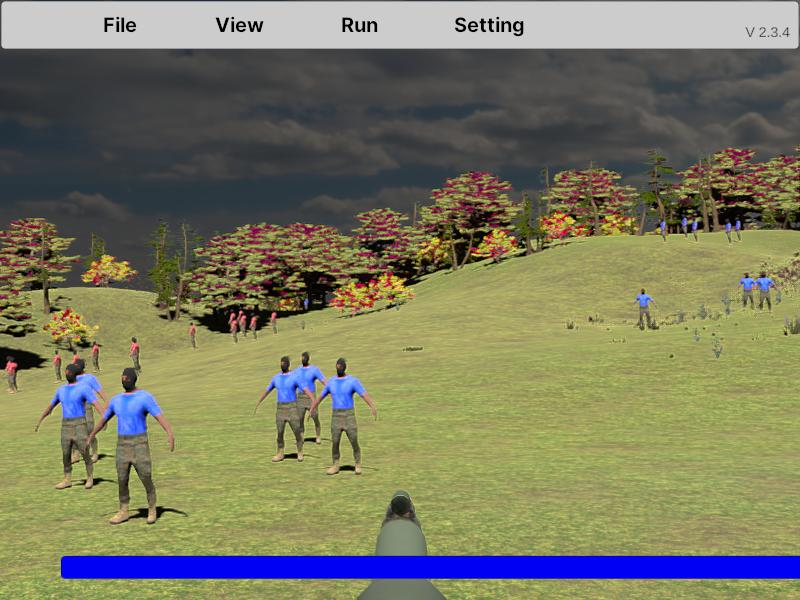Human: (87, 366, 175, 527), (35, 363, 106, 490), (309, 359, 377, 476), (255, 357, 314, 462), (283, 352, 335, 445), (631, 288, 657, 332)
